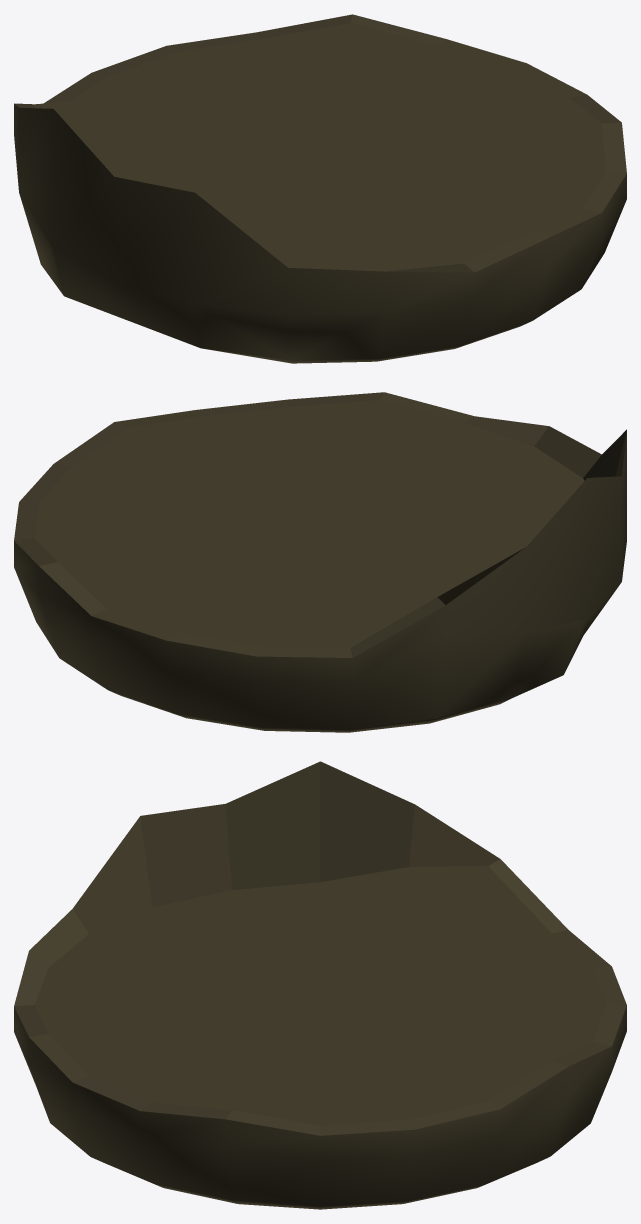
The model's file is dirt_bottom.fbx.
3 renders of one model, top to bottom at view 1: azimuth 30°, elevation 25°; view 2: azimuth 150°, elevation 25°; view 3: azimuth 270°, elevation 25°, orthographic.
Parts seen in each view (by area): view 1: dirt1; view 2: dirt1; view 3: dirt1.
Boxes of the visible parts, x1,y1,x2,y2 form: dirt1: (14, 14, 626, 363); dirt1: (14, 392, 626, 732); dirt1: (14, 761, 626, 1209).
Size of the model in its own units: 32.89 by 12.19 by 32.89.
